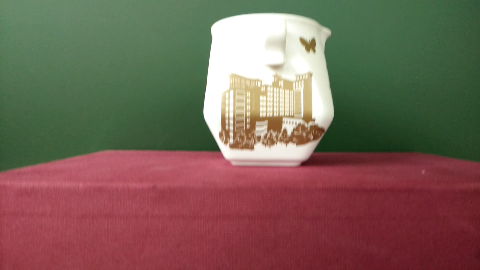butterfly: (289, 24, 326, 64)
lenwen: (225, 84, 310, 142)
